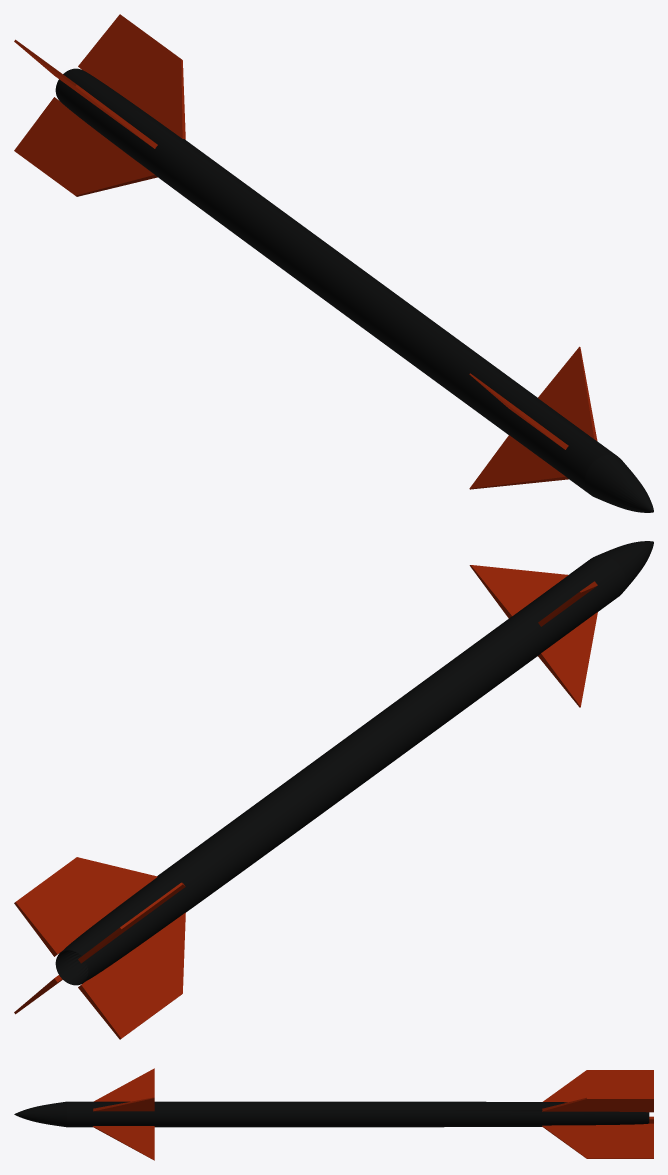
The model's file is Missile.fbx.
The picture shows the model from 3 angles, top to bottom: view 1: azimuth 30°, elevation 25°; view 2: azimuth 150°, elevation 25°; view 3: azimuth 270°, elevation 25°; orthographic projection. The views are drawn at different scales.
Parts seen in each view (by area): view 1: Body, Bottom fin.001, Top fin.001, Bottom fin, Top fin, Tip, Right fin.001; view 2: Body, Bottom fin.001, Top fin.001, Bottom fin, Top fin, Tip, Right fin.001; view 3: Body, Left fin.001, Right fin.001, Top fin.001, Left fin, Right fin, Tip, Top fin.
Part boxes in pixels (box(x1,y1,x2,y2)): Body: box(55, 68, 617, 493); Bottom fin.001: box(14, 97, 157, 196); Top fin.001: box(78, 14, 185, 139); Bottom fin: box(469, 435, 568, 489); Top fin: box(538, 346, 597, 440); Tip: box(585, 454, 653, 512); Right fin.001: box(14, 39, 157, 148); Body: box(55, 555, 625, 985); Bottom fin.001: box(78, 912, 185, 1039); Top fin.001: box(14, 857, 157, 956); Bottom fin: box(538, 612, 597, 707); Top fin: box(469, 565, 568, 618); Tip: box(596, 541, 653, 591); Right fin.001: box(78, 882, 185, 963); Body: box(67, 1101, 649, 1127); Left fin.001: box(542, 1123, 653, 1158); Right fin.001: box(543, 1070, 653, 1102); Top fin.001: box(542, 1097, 653, 1112); Left fin: box(92, 1126, 154, 1160); Right fin: box(94, 1068, 154, 1101); Tip: box(14, 1101, 66, 1127); Top fin: box(93, 1097, 154, 1111).
Bounding box in the file's own units: 542 × 542 × 4945.
